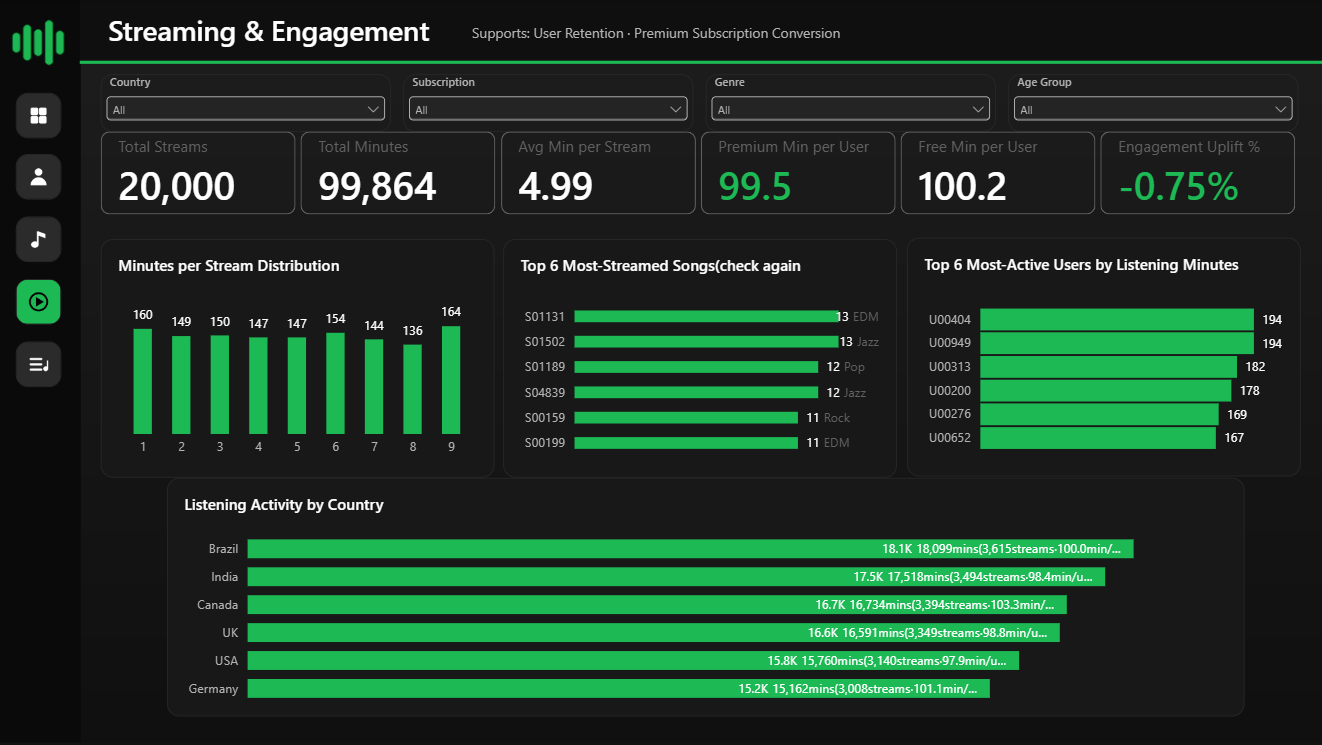

Layout of this report page (visuals, bound fields, positions):
{"tool":"powerbi","page":{"name":"Streaming Analytics","canvas":[1280,720],"ordinal":3},"visuals":[{"type":"textbox","box":[100.1,12.1,388.5,42.2],"z":0},{"type":"textbox","box":[458.4,22.9,587.5,21.7],"z":1000},{"type":"actionButton","box":[18,150,44,44],"z":2000},{"type":"actionButton","box":[18.1,210,44,44],"z":3000},{"type":"actionButton","box":[18,270,44,44],"z":4000},{"type":"actionButton","box":[18,330,44,44],"z":5000},{"type":"actionButton","box":[18,90,44,44],"z":6000},{"type":"slicer","title":"Country","fields":{"Values":["Users.Country"]},"box":[100,72,280,56],"z":7000},{"type":"slicer","title":"Subscription","fields":{"Values":["Users.Subscription"]},"box":[392,72,280,56],"z":8000},{"type":"slicer","title":"Age Group","fields":{"Values":["Users.Age"]},"box":[976,72,280,56],"z":9000},{"type":"slicer","title":"Country","fields":{"Values":["Artists.Genre"]},"box":[684,72,280,56],"z":10000},{"type":"cardVisual","fields":{"Data":["Artists.Total Streams","Artists.Total Minutes","Artists.Avg Min per Stream","Users.Premium Min per User","Users.Free Min per User","Artists.Engagement Uplift %"]},"box":[100.1,127.9,1158.2,80],"z":11000},{"type":"clusteredBarChart","title":"Top 6 Most-Streamed Songs(check again","fields":{"Category":["Songs.Song_ID"],"Y":["Artists.Total Streams"]},"box":[488.6,231.6,380,230],"z":12000},{"type":"clusteredColumnChart","title":"Minutes per Stream Distribution","fields":{"Category":["Streams.Minutes_Listened"],"Y":["Artists.Total Streams"]},"box":[100.1,232,380,230],"z":13000},{"type":"clusteredBarChart","title":"Top 6 Most-Active Users by Listening Minutes","fields":{"Category":["Users.User_ID"],"Y":["Artists.Total Minutes"]},"box":[878.3,230.4,380,230],"z":14000},{"type":"clusteredBarChart","title":"Listening Activity by Country","fields":{"Category":["Users.Country"],"Y":["Artists.Total Minutes"]},"box":[164.1,462.1,1040,230.4],"z":15000},{"type":"image","box":[9.6,12.3,60.4,60],"z":16000}]}

Visuals, with their boxes on the page's 1280x720 design canvas (x1, y1, x2, y2). These are canvas units, not pixel positions in the 1322x745 screenshot, which may show the page scaled, cropped or inside an application window:
textbox: <box>100,12,489,54</box>
textbox: <box>458,23,1046,45</box>
actionButton: <box>18,150,62,194</box>
actionButton: <box>18,210,62,254</box>
actionButton: <box>18,270,62,314</box>
actionButton: <box>18,330,62,374</box>
actionButton: <box>18,90,62,134</box>
"Country" slicer: <box>100,72,380,128</box>
"Subscription" slicer: <box>392,72,672,128</box>
"Age Group" slicer: <box>976,72,1256,128</box>
"Country" slicer: <box>684,72,964,128</box>
cardVisual - Artists.Total Streams x Artists.Total Minutes: <box>100,128,1258,208</box>
"Top 6 Most-Streamed Songs(check again" clusteredBarChart: <box>489,232,869,462</box>
"Minutes per Stream Distribution" clusteredColumnChart: <box>100,232,480,462</box>
"Top 6 Most-Active Users by Listening Minutes" clusteredBarChart: <box>878,230,1258,460</box>
"Listening Activity by Country" clusteredBarChart: <box>164,462,1204,692</box>
image: <box>10,12,70,72</box>
